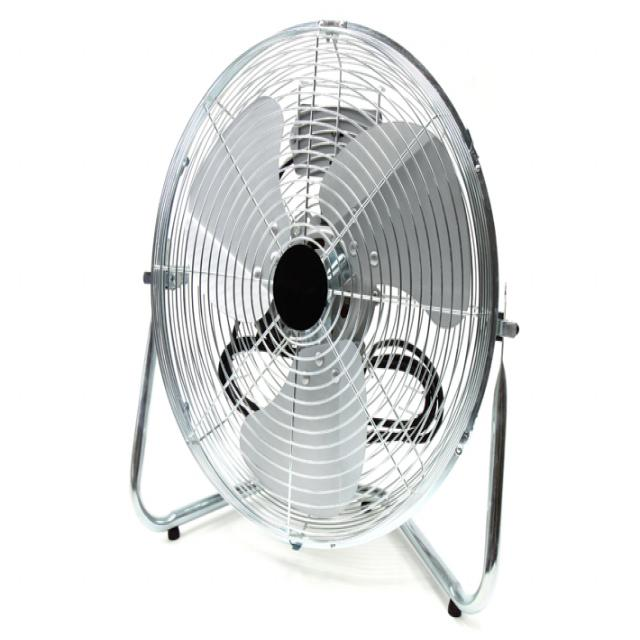fan: (124, 24, 520, 624)
